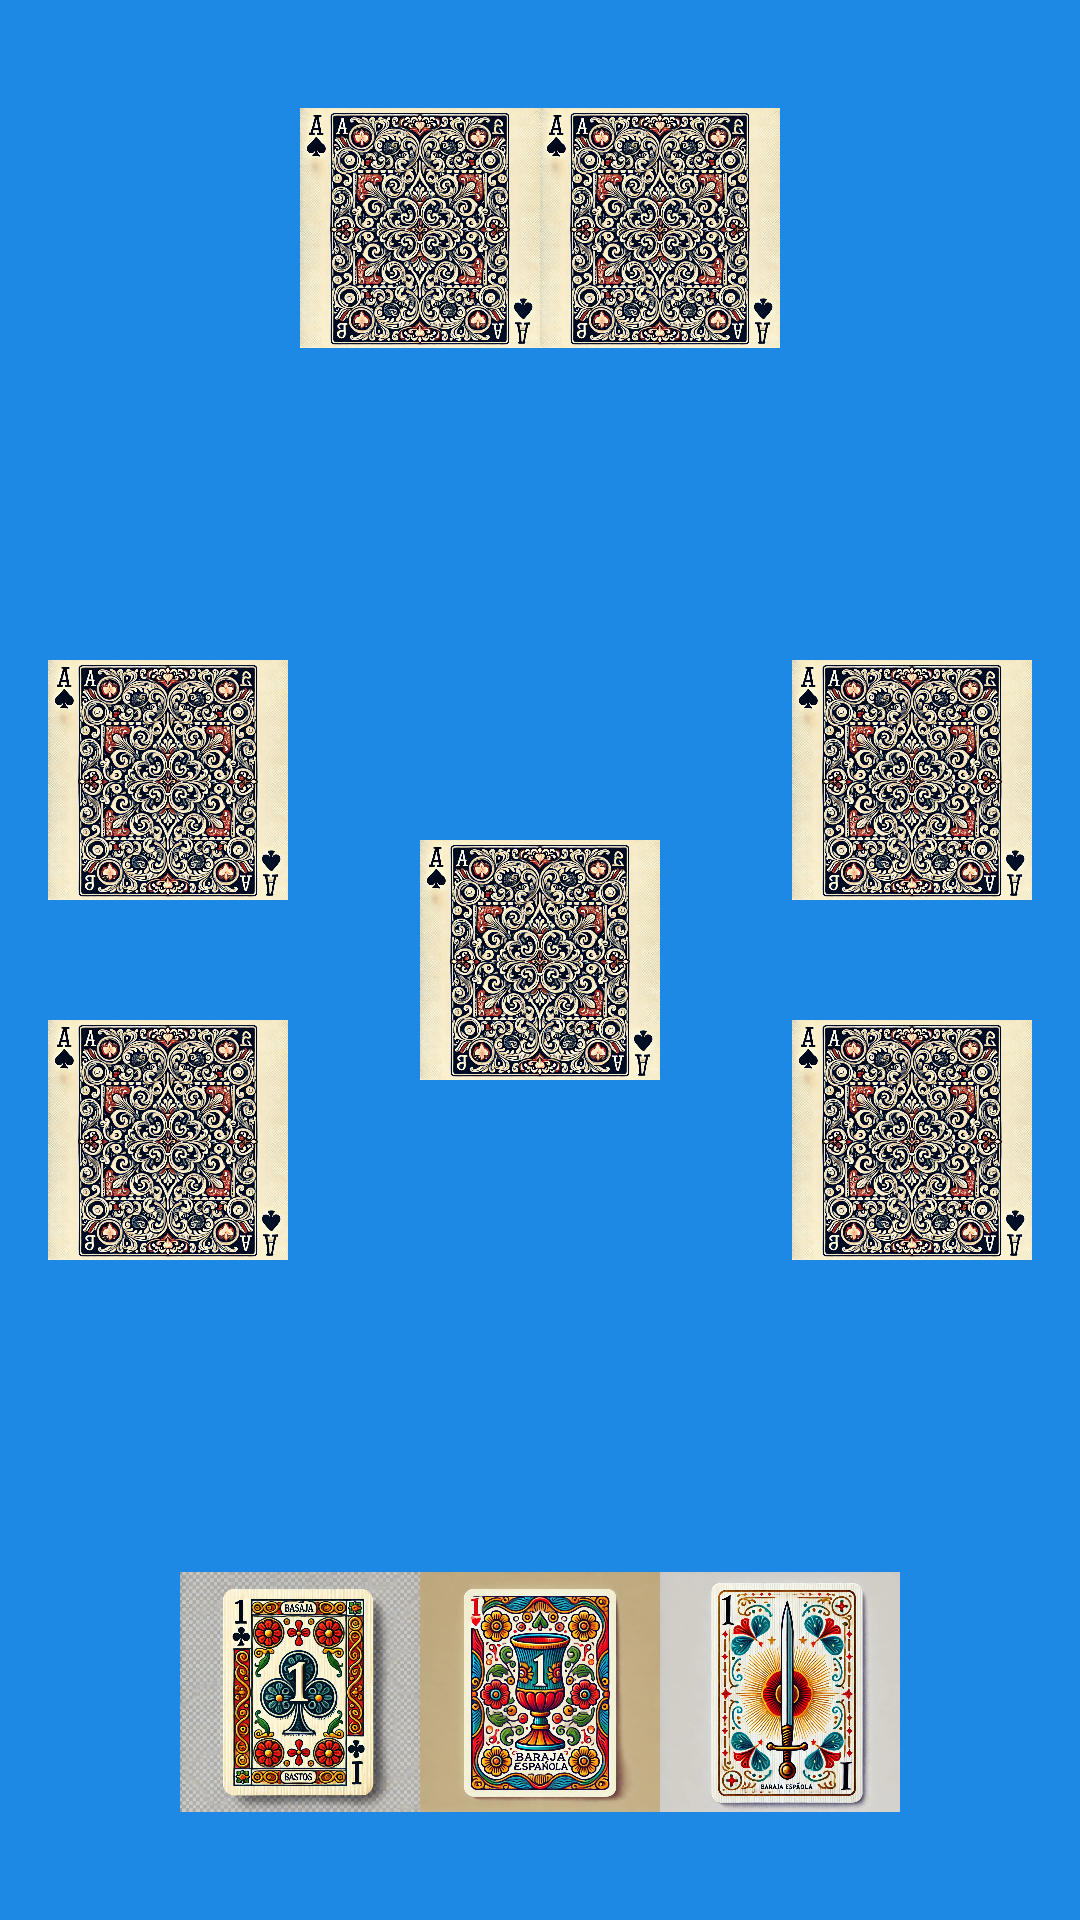

Named icons in this screenshot (1080px x 1920px) and their bounding boxes, (x1, y1, x2, y2):
card swords: (660, 1572, 900, 1812)
Deck of Cards: (420, 840, 660, 1080)
Player 1 Card: (180, 1572, 420, 1812)
